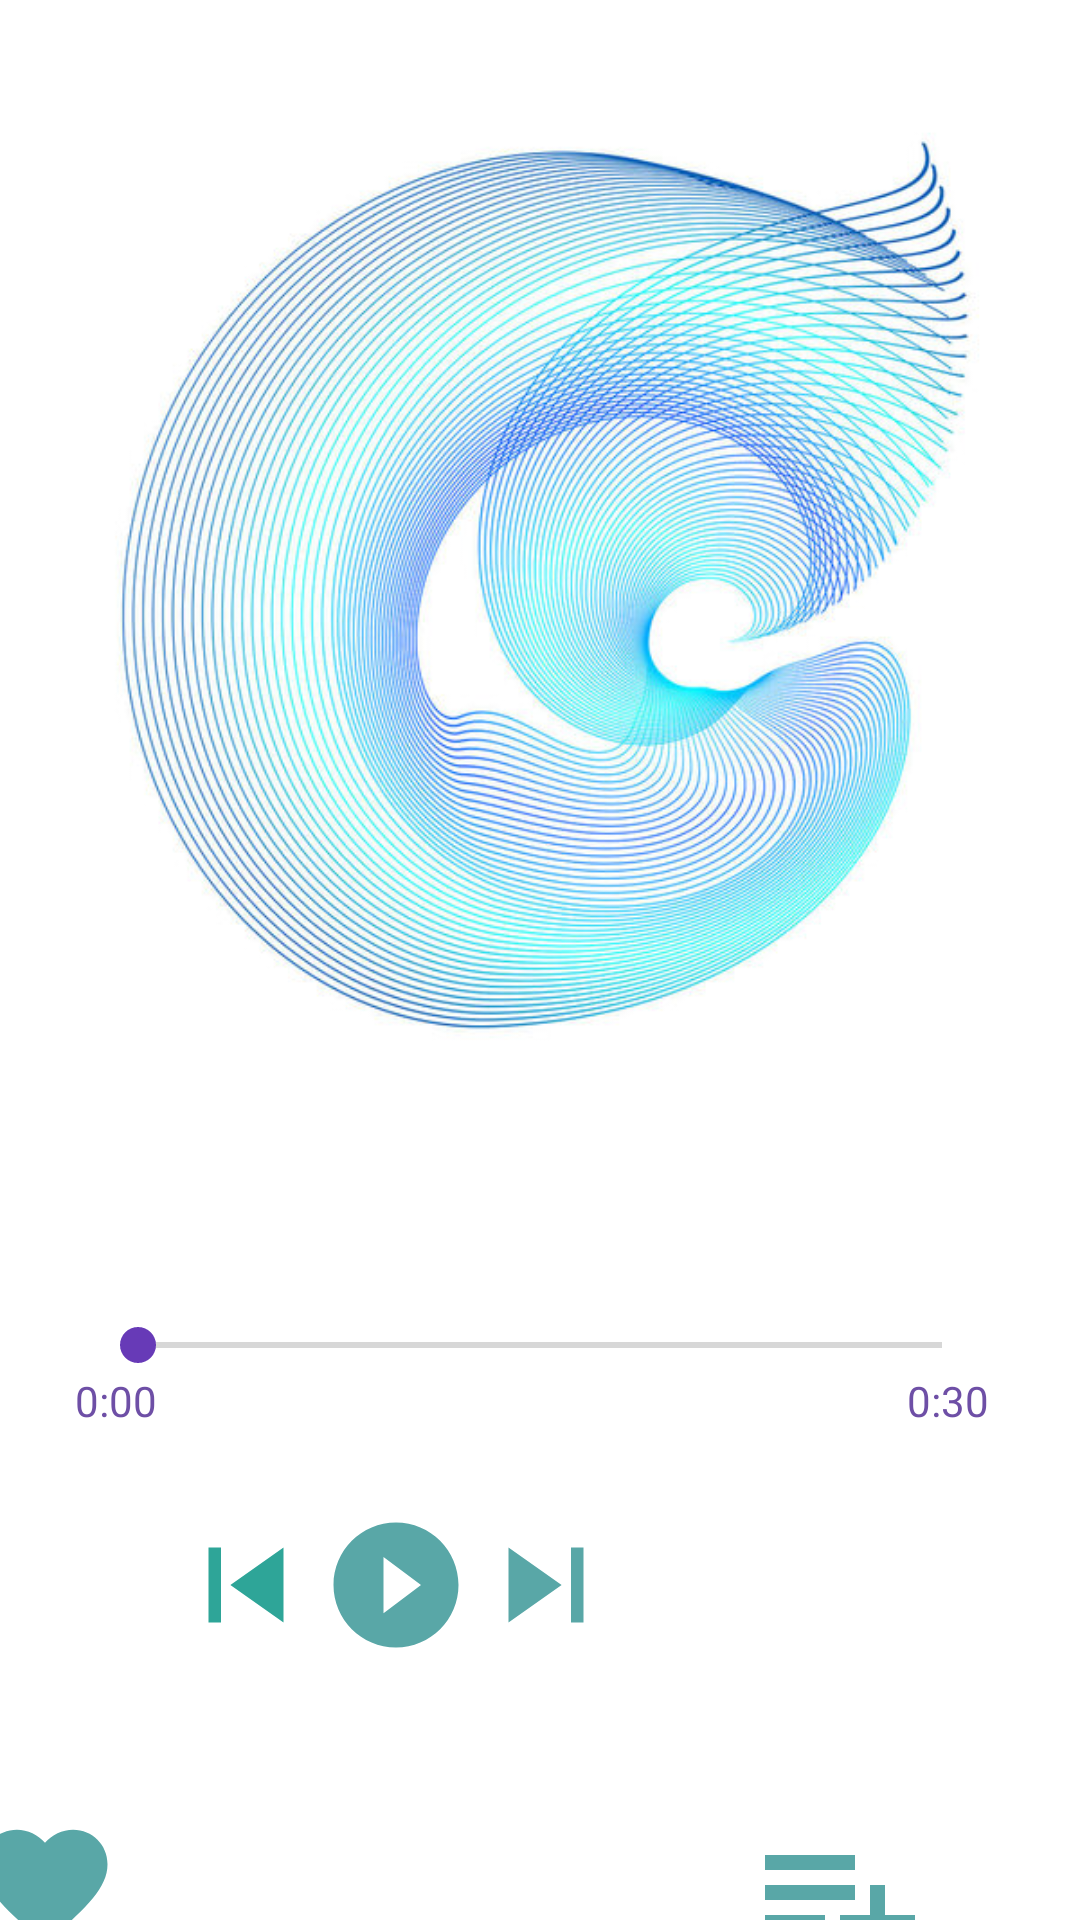

Icons on this 1080x1920 Android screen, each with the point to tap as (x,y):
play circle: (396,1585)
skip next: (546,1585)
skip previous: (246,1585)
